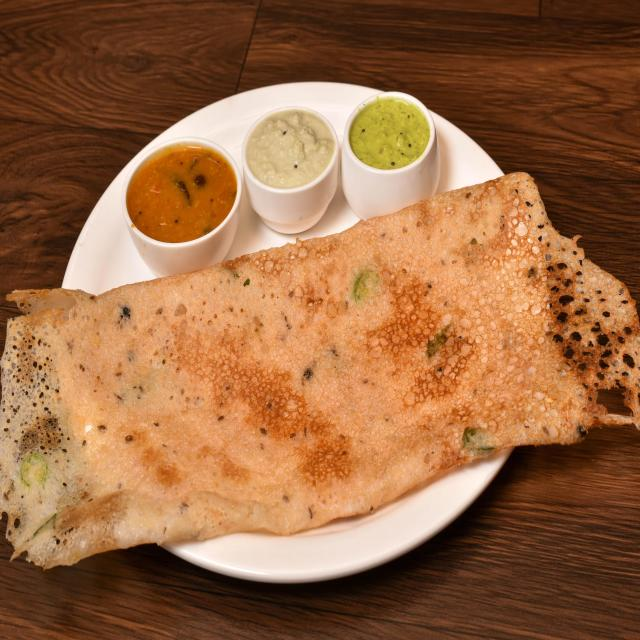DOSA: (0, 175, 639, 563)
GREEN CHUTNEY: (357, 105, 428, 161)
SAMBAR: (132, 154, 234, 237)
WHITE CHUTNEY: (249, 114, 329, 182)
